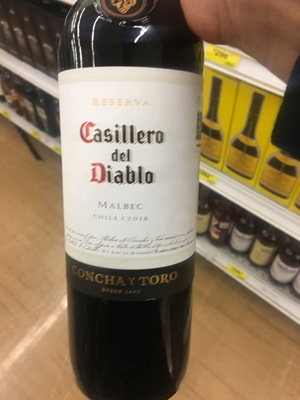casillero del diablo malbec: (49, 8, 220, 400)
